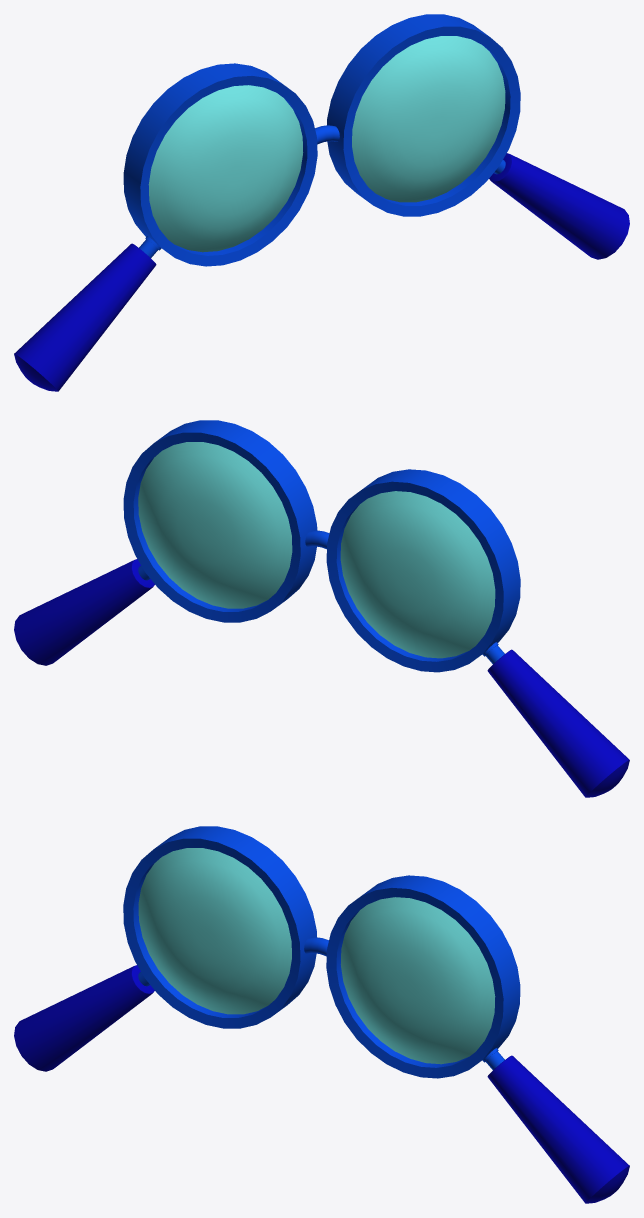
The model's file is Magnifying glass.fbx.
The picture shows the model from 3 angles, top to bottom: view 1: azimuth 30°, elevation 25°; view 2: azimuth 150°, elevation 25°; view 3: azimuth 330°, elevation 25°; orthographic projection.
Visible parts, largest first — view 1: Magnifying.001; view 2: Magnifying.001; view 3: Magnifying.001.
Part boxes in pixels (x1,y1,x2,y2): Magnifying.001: (14,14,629,391); Magnifying.001: (14,420,629,797); Magnifying.001: (14,826,629,1203).
Bounding box in the file's own units: 32.74 × 14.26 × 2.97.
